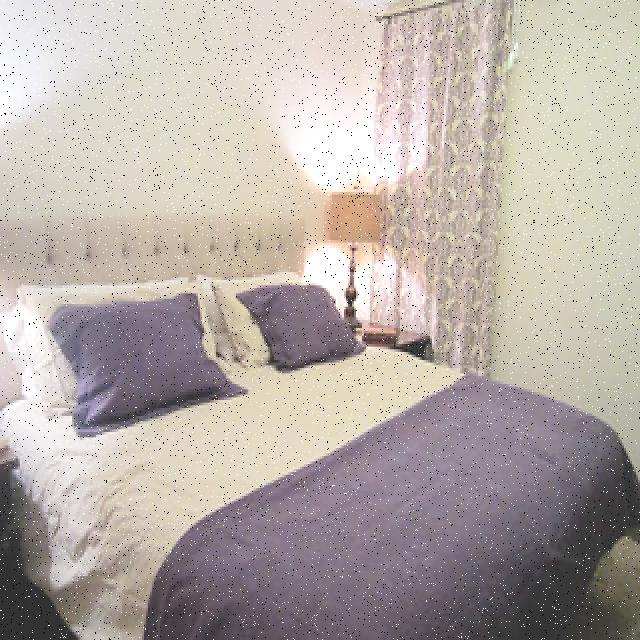bed: (2, 218, 623, 640)
